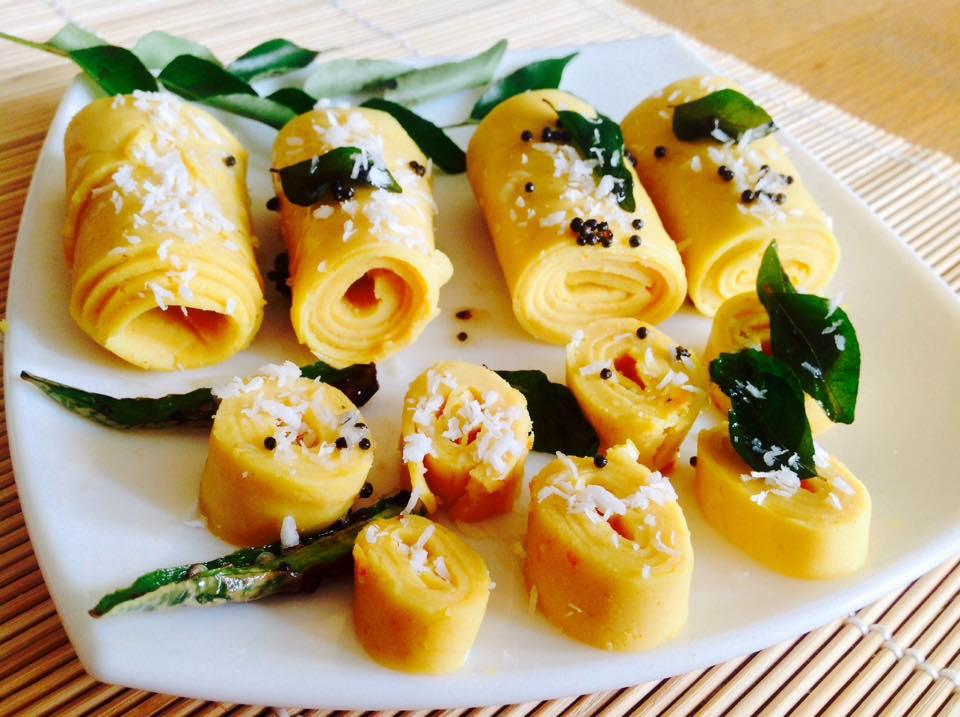khandvi: (44, 72, 960, 668)
